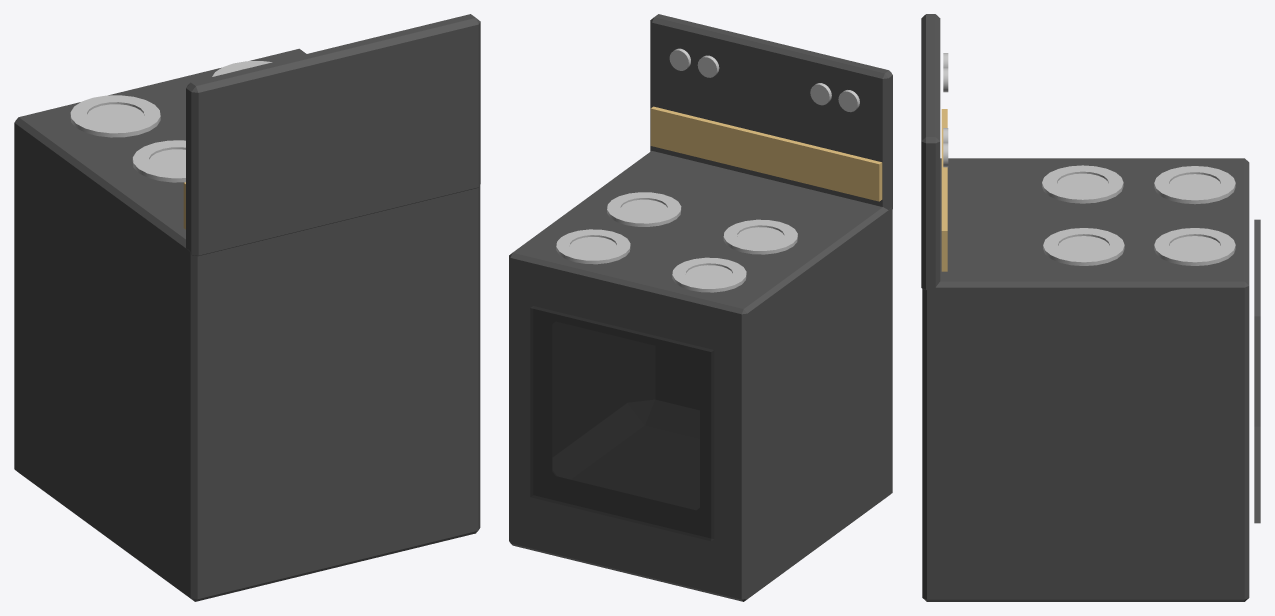
The model's file is Oven.fbx.
3 renders of one model, left to right at view 1: azimuth 30°, elevation 25°; view 2: azimuth 150°, elevation 25°; view 3: azimuth 270°, elevation 25°, orthographic. The views are drawn at different scales.
Parts seen in each view (by area): view 1: pCube4, pCube2, pCylinder9, pCylinder8; view 2: pCube4, pCube5, pCube2, pCube6, pCylinder8, pCylinder9, pCylinder6, pCylinder7; view 3: pCube4, pCube2, pCylinder9, pCylinder8, pCylinder6, pCylinder7, pCube5, pCube6.
Boxes of the visible parts, x1=… form: pCube4: x1=14, y1=48, x2=480, y2=601; pCube2: x1=186, y1=14, x2=480, y2=256; pCylinder9: x1=70, y1=95, x2=160, y2=137; pCylinder8: x1=132, y1=140, x2=185, y2=182; pCube4: x1=509, y1=151, x2=892, y2=601; pCube5: x1=530, y1=306, x2=714, y2=541; pCube2: x1=650, y1=14, x2=892, y2=209; pCube6: x1=650, y1=106, x2=882, y2=201; pCylinder8: x1=723, y1=219, x2=797, y2=254; pCylinder9: x1=672, y1=257, x2=746, y2=292; pCylinder6: x1=556, y1=229, x2=630, y2=264; pCylinder7: x1=607, y1=192, x2=681, y2=226; pCube4: x1=922, y1=158, x2=1249, y2=601; pCube2: x1=921, y1=14, x2=940, y2=290; pCylinder9: x1=1154, y1=166, x2=1235, y2=204; pCylinder8: x1=1042, y1=165, x2=1123, y2=203; pCylinder6: x1=1154, y1=228, x2=1235, y2=265; pCylinder7: x1=1043, y1=228, x2=1124, y2=265; pCube5: x1=1254, y1=219, x2=1260, y2=523; pCube6: x1=941, y1=109, x2=947, y2=271.
Bounding box in the file's own units: 0.0135 × 0.0231 × 0.0153.
